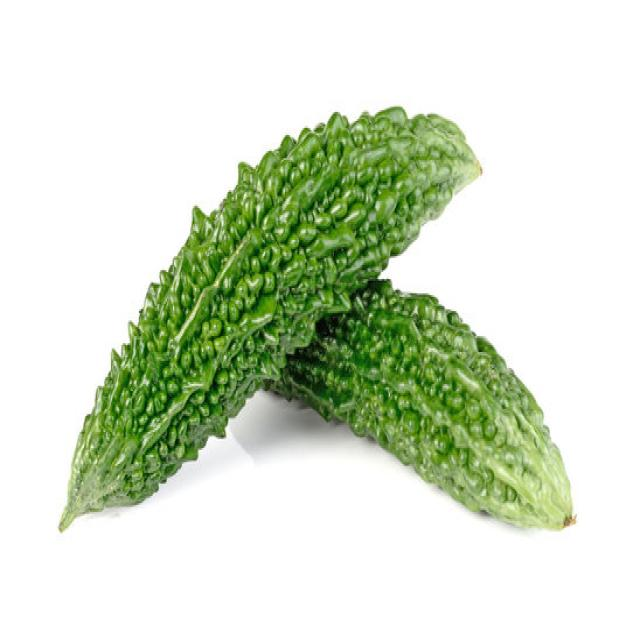Bitter_Gourd: (60, 97, 484, 531)
Bottle Gourd: (262, 276, 577, 532)
